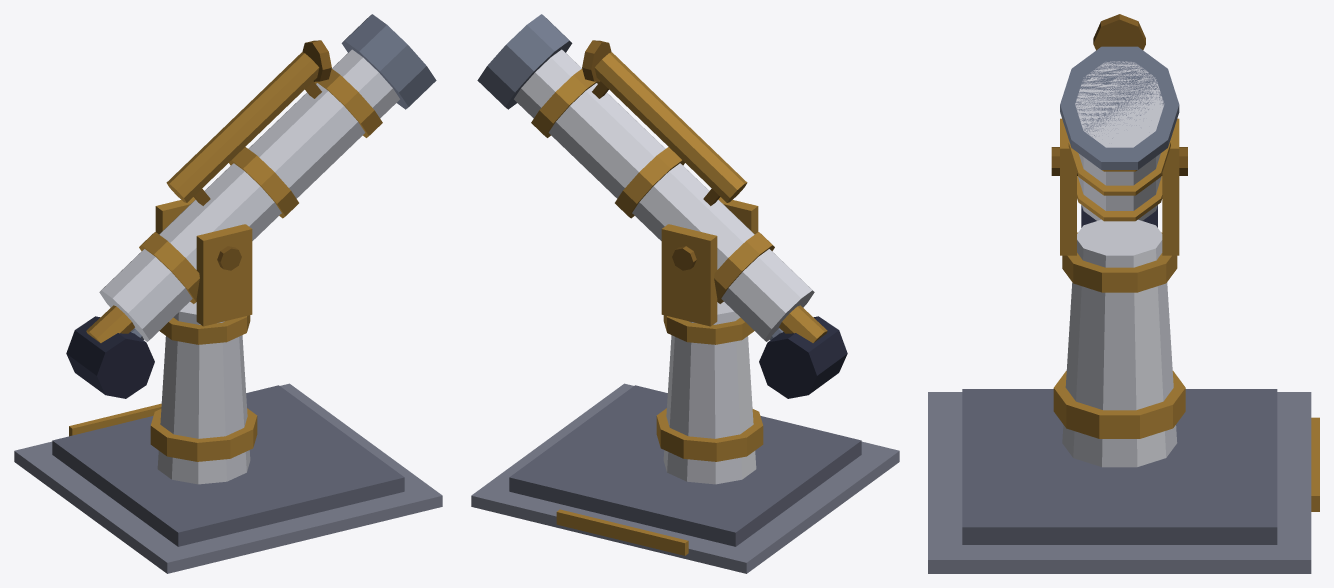
File: Decor_Observatory_Telescope.fbx
3 views of the same model, side by side, from view 1: azimuth 30°, elevation 25°; view 2: azimuth 150°, elevation 25°; view 3: azimuth 270°, elevation 25° (orthographic). The views are drawn at different scales.
Parts seen in each view (by area): view 1: Telescope_Body; view 2: Telescope_Body; view 3: Telescope_Body.
Boxes of the visible parts, box(x1,y1,x2,y2) form: Telescope_Body: box(14, 14, 442, 573); Telescope_Body: box(471, 14, 899, 573); Telescope_Body: box(928, 14, 1319, 573).
Size of the model in its own units: 11.44 by 13.57 by 9.
